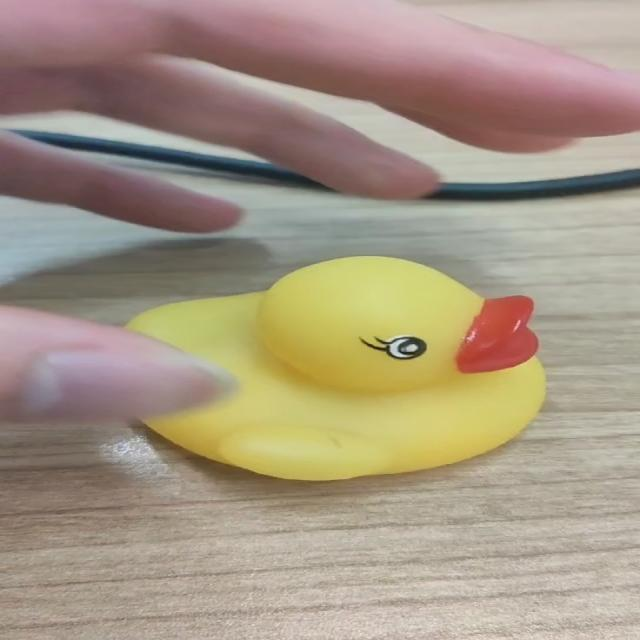rubber-duck: (127, 255, 543, 478)
